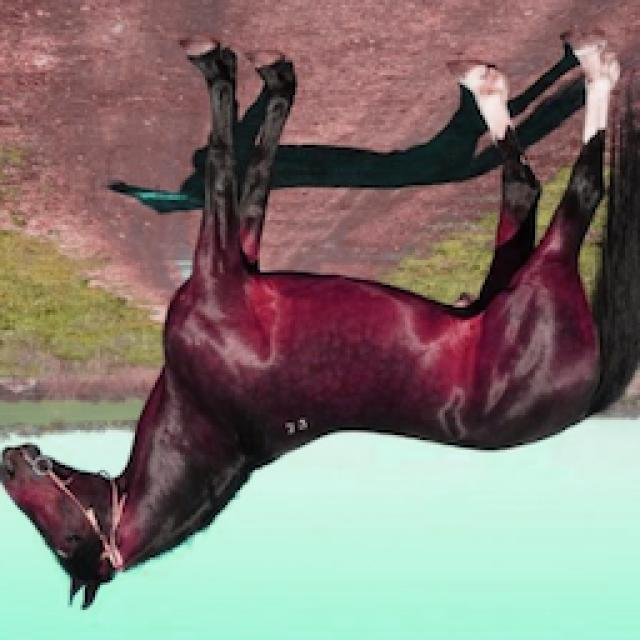Horse: (0, 25, 638, 615)
